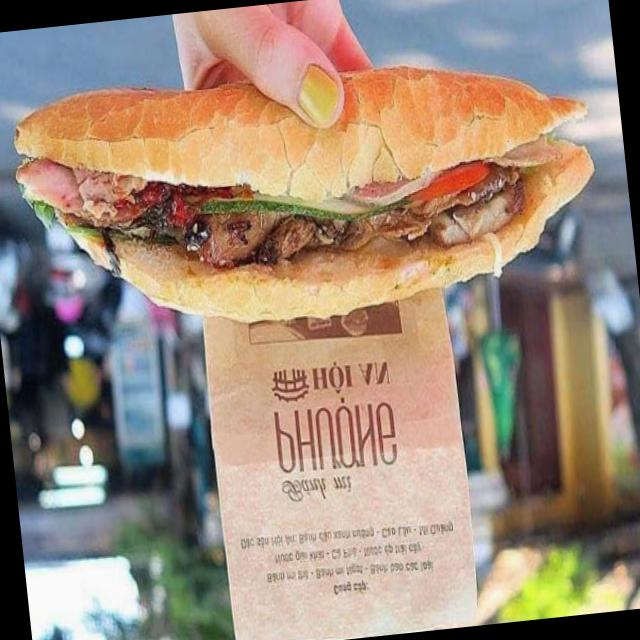banh mi: (14, 67, 593, 322)
